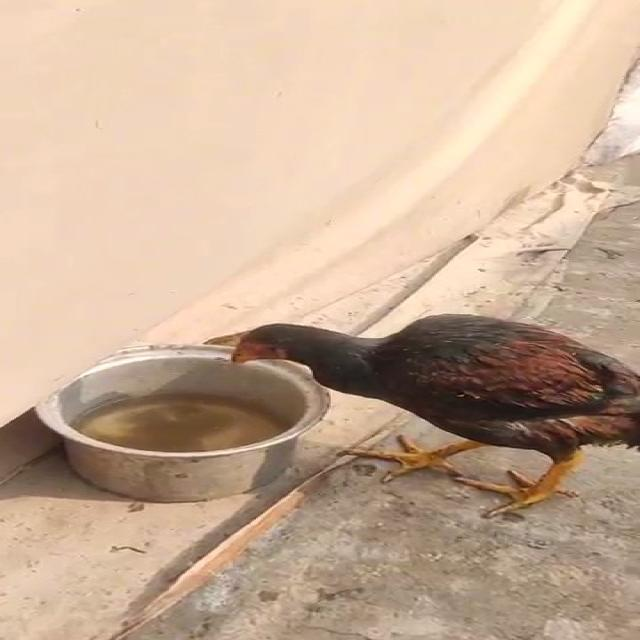drinking: (206, 290, 640, 524)
